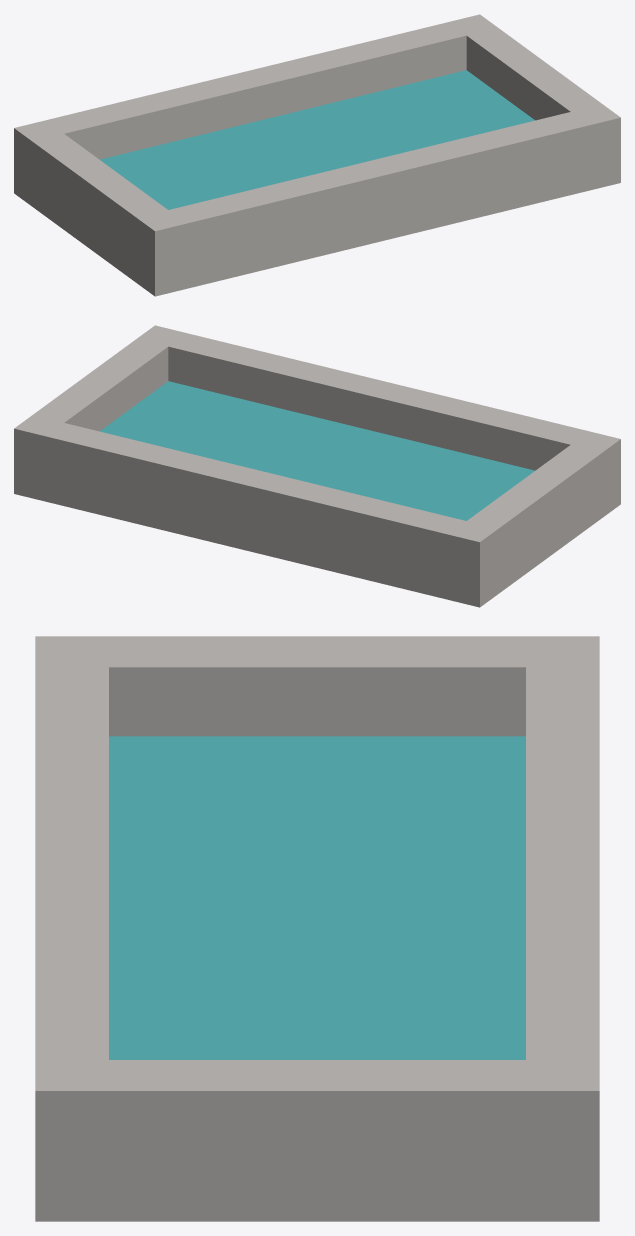
Rendered from zhuangshi_12.FBX.
3 views of the same model, one above another, from view 1: azimuth 30°, elevation 25°; view 2: azimuth 150°, elevation 25°; view 3: azimuth 270°, elevation 25° (orthographic). The views are drawn at different scales.
Visible parts, largest first — view 1: zhuangshi_12; view 2: zhuangshi_12; view 3: zhuangshi_12.
Part boxes in pixels (box(x1,y1,x2,y2)): zhuangshi_12: box(14, 14, 620, 296); zhuangshi_12: box(14, 325, 620, 607); zhuangshi_12: box(35, 636, 599, 1221).
Size of the model in its own units: 914 by 122 by 479.
